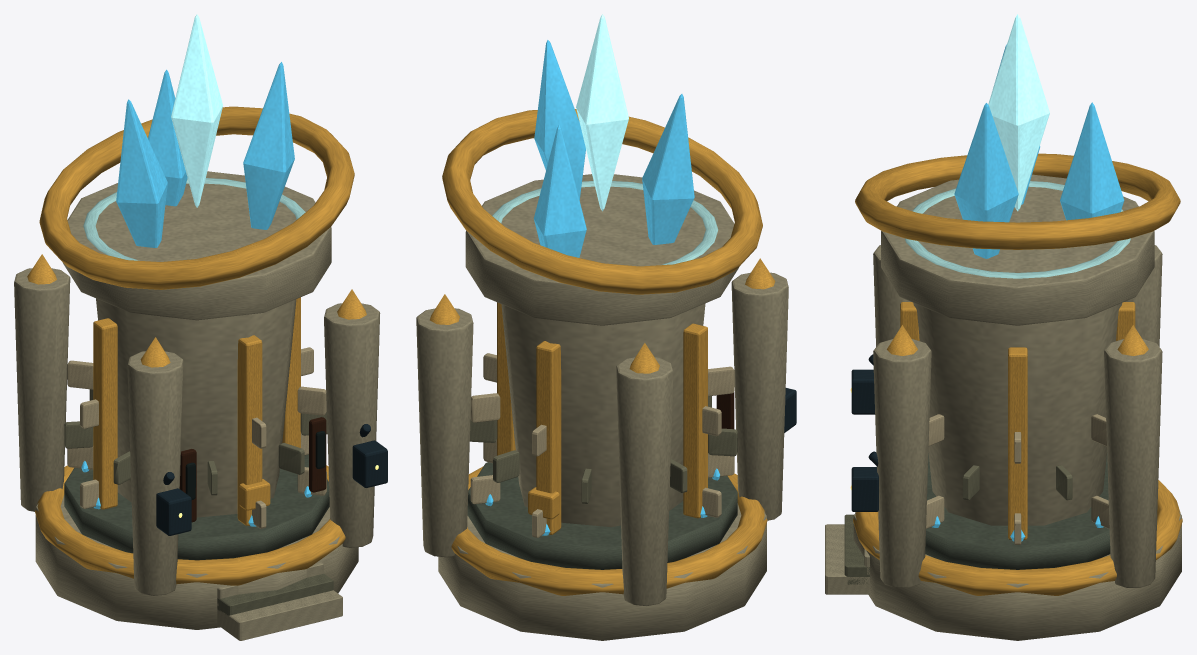
The model's file is tower-frost-2-base.glb.
The picture shows the model from 3 angles, left to right: view 1: azimuth 30°, elevation 25°; view 2: azimuth 150°, elevation 25°; view 3: azimuth 270°, elevation 25°; orthographic projection.
Visible parts, largest first — view 1: Foundation, Turret, frost-L2-base; view 2: Foundation, Turret, frost-L2-base; view 3: Foundation, Turret, frost-L2-base.
Boxes of the visible parts, x1,y1,x2,y2 form: Foundation: [14, 254, 387, 640]; Turret: [39, 14, 354, 320]; frost-L2-base: [35, 454, 358, 629]; Foundation: [416, 258, 796, 605]; Turret: [442, 14, 762, 325]; frost-L2-base: [438, 462, 766, 640]; Foundation: [825, 245, 1182, 595]; Turret: [855, 14, 1180, 325]; frost-L2-base: [853, 453, 1181, 640].
Bounding box in the file's own units: 1.69 × 3.15 × 1.83.
14 materials, 14 textured.
